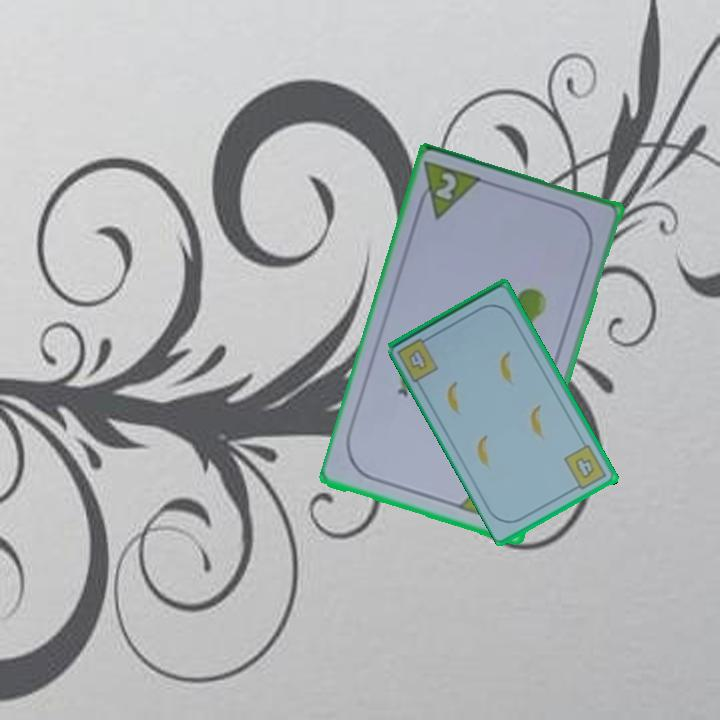2p: (412, 158, 487, 223)
4b: (561, 441, 610, 494), (394, 332, 441, 385)
